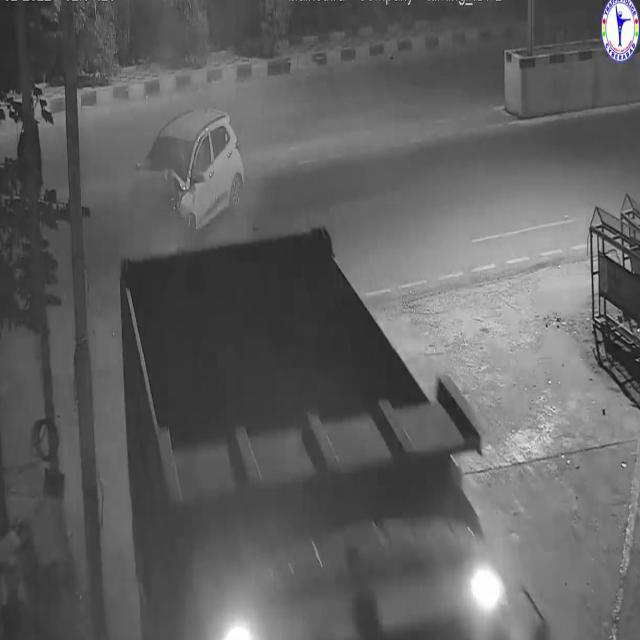accident: (127, 105, 249, 239)
